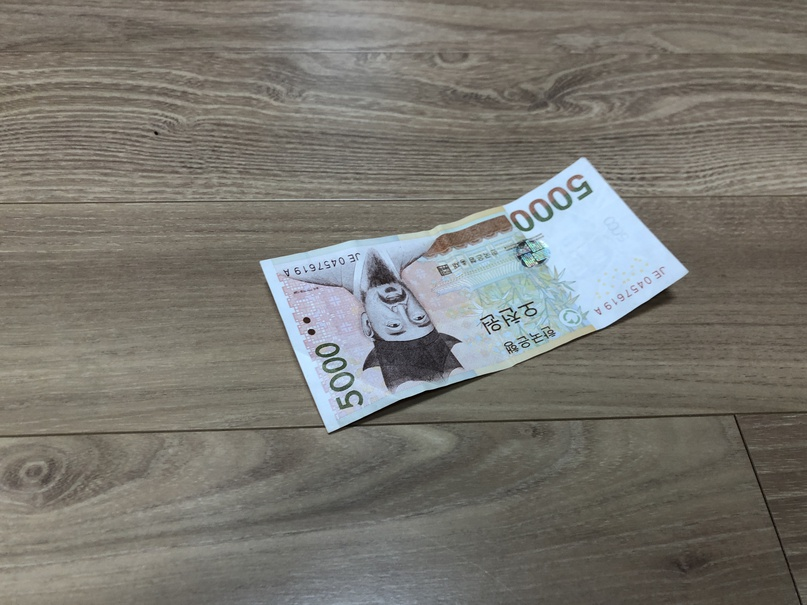5000won: (258, 156, 690, 437)
